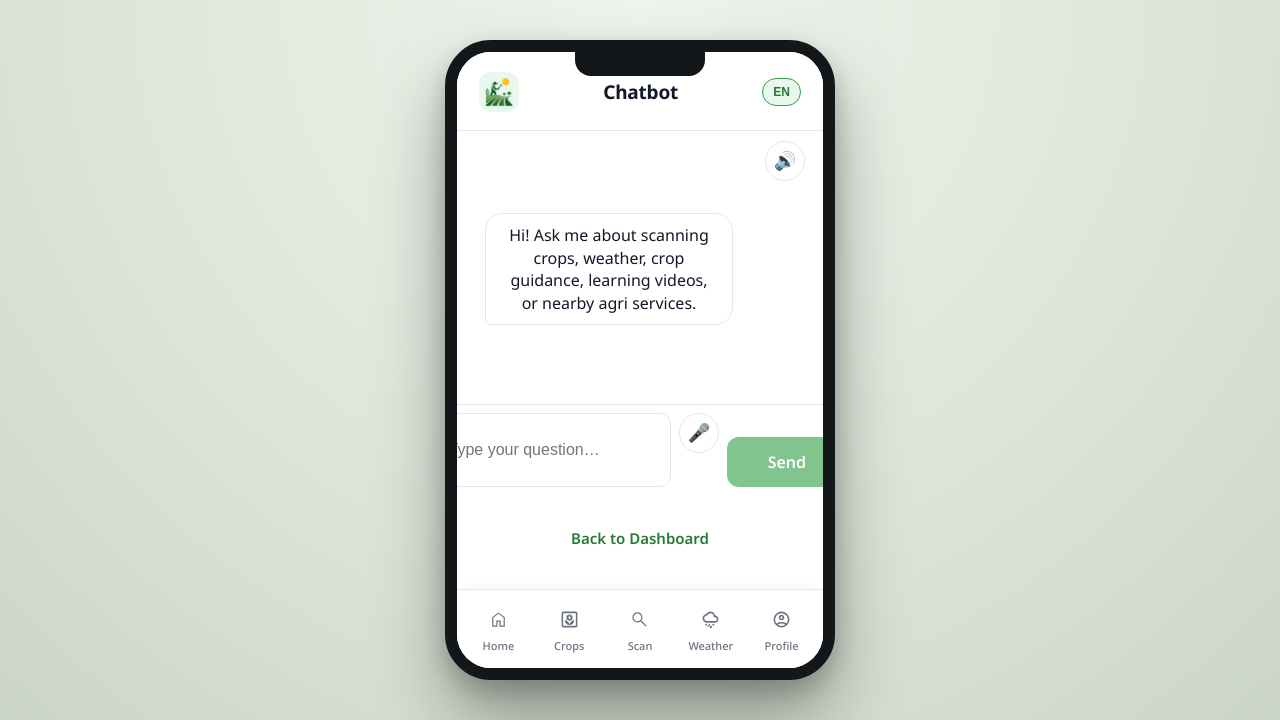
it: ChatbotPage › treats SQL-like or script-tag input as plain text, not something that breaks the UI
Type "<script>alert(1)</script>" into the field with placeholder "Type your question…" at point(552, 450), box top-left (433, 412), bottom-right (671, 486)
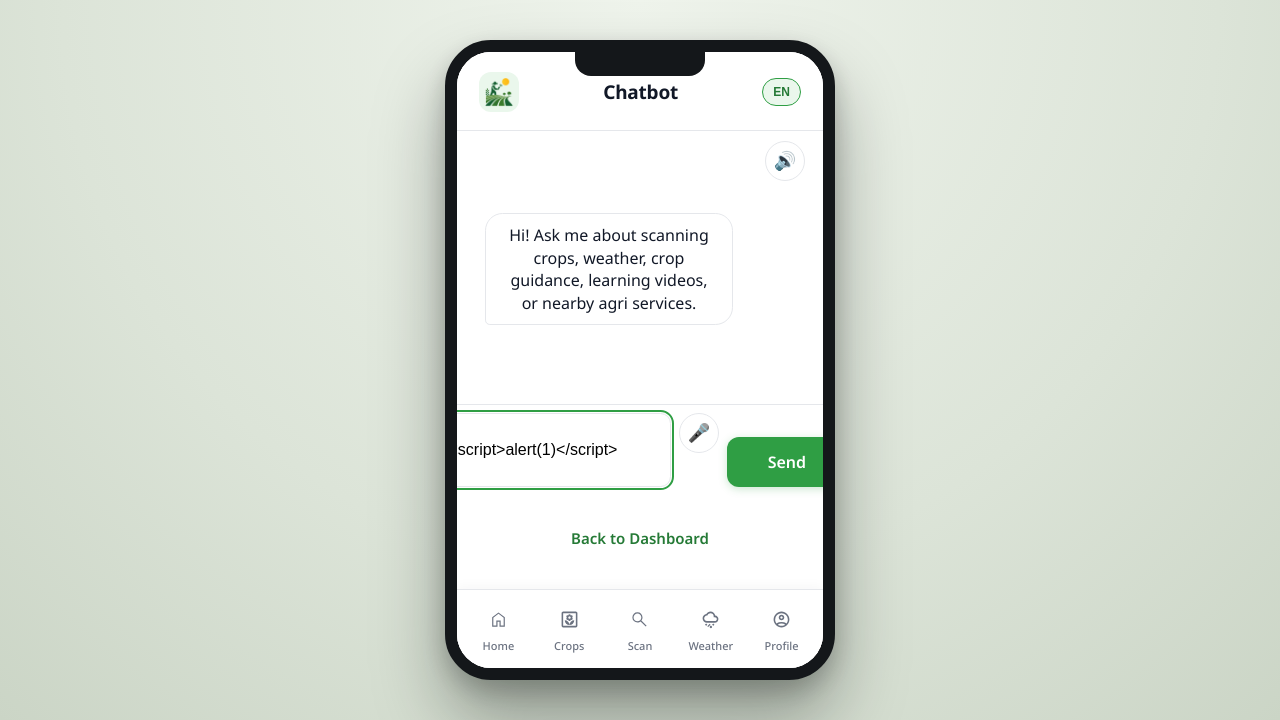
Click the button "Send" at point(787, 462), box top-left (727, 436), bottom-right (847, 486)
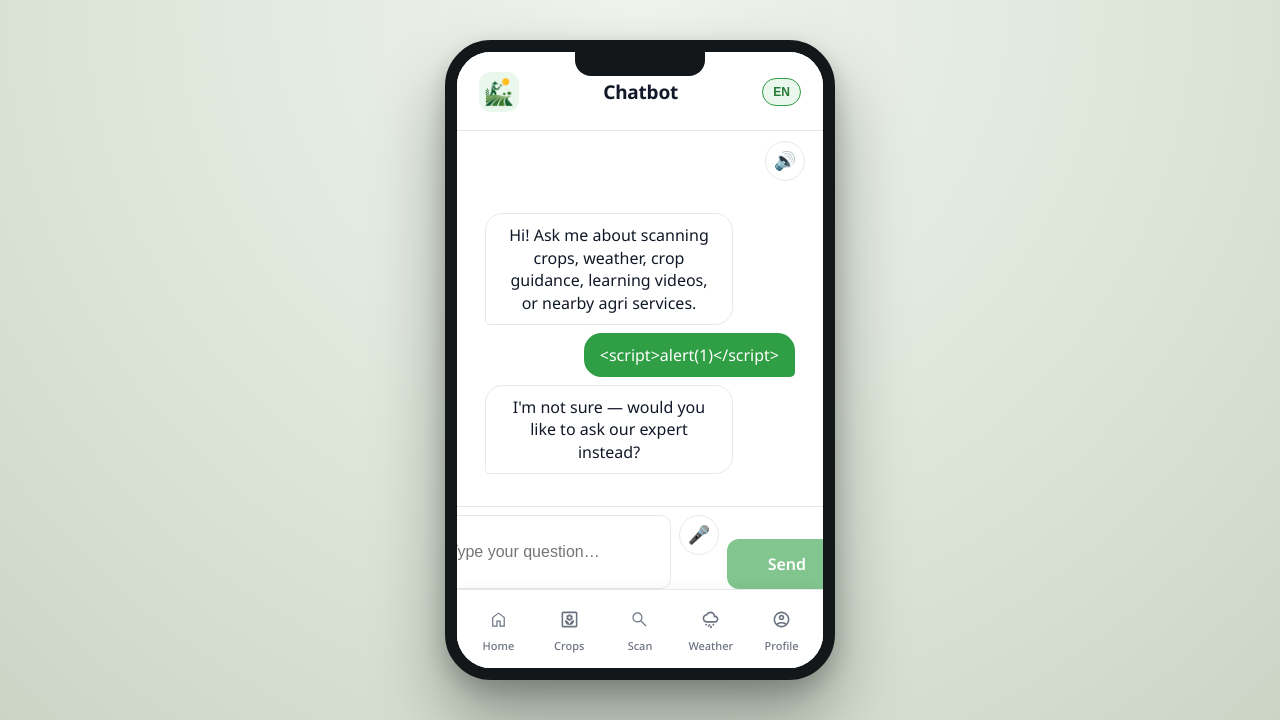
Expected: the text "<script>alert(1)</script>" is shown, top-left (584, 333), bottom-right (795, 376)
Expected: the text "I'm not sure — would you like to ask our expert instead?" is shown, top-left (485, 384), bottom-right (733, 474)
